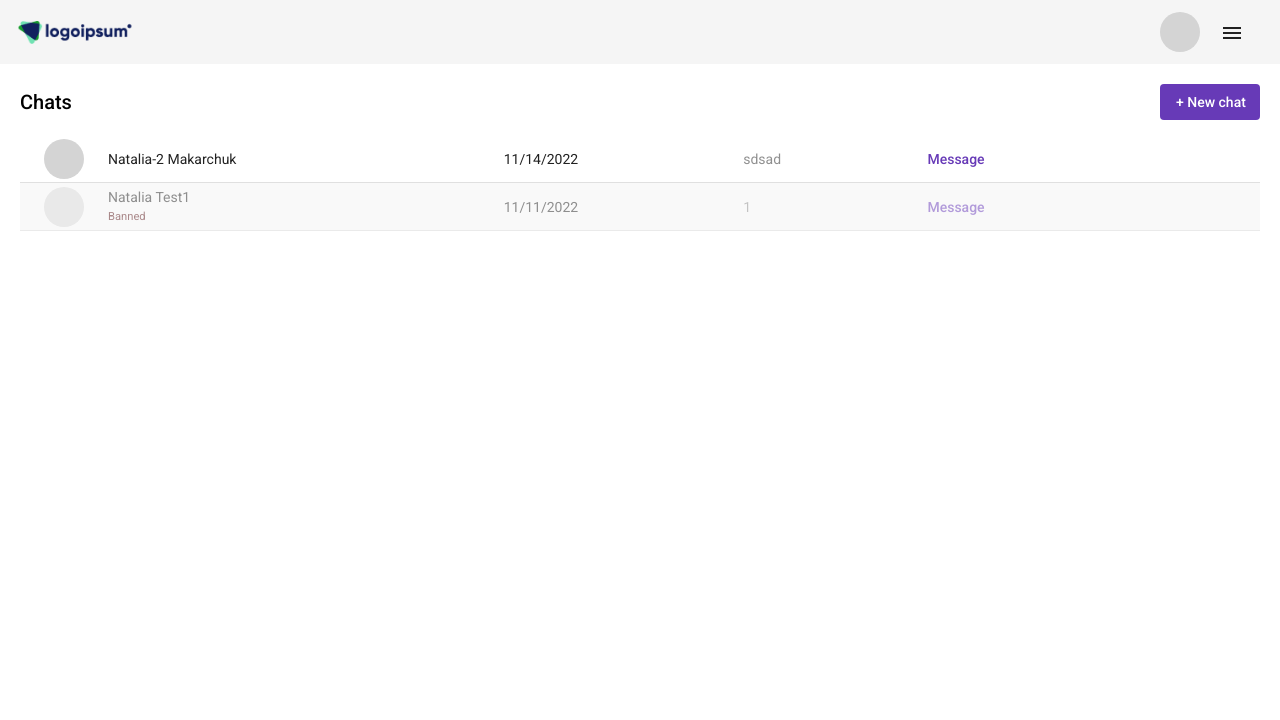
Test: Personal profile › Should show error after clear the fields
Click the button named "Menu" at point(1232, 32), box [1200,14,1264,50]
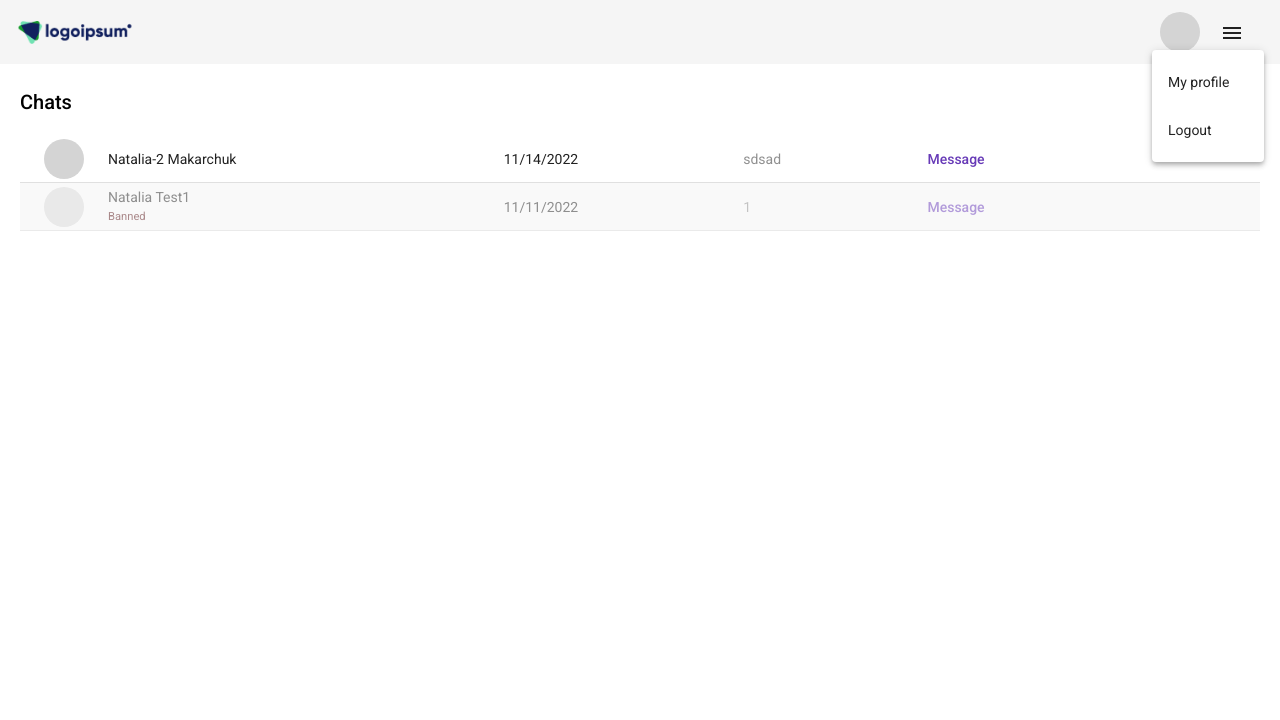
Click the menu item with aria-label "My profile" at point(1208, 82), box [1152,58,1264,106]
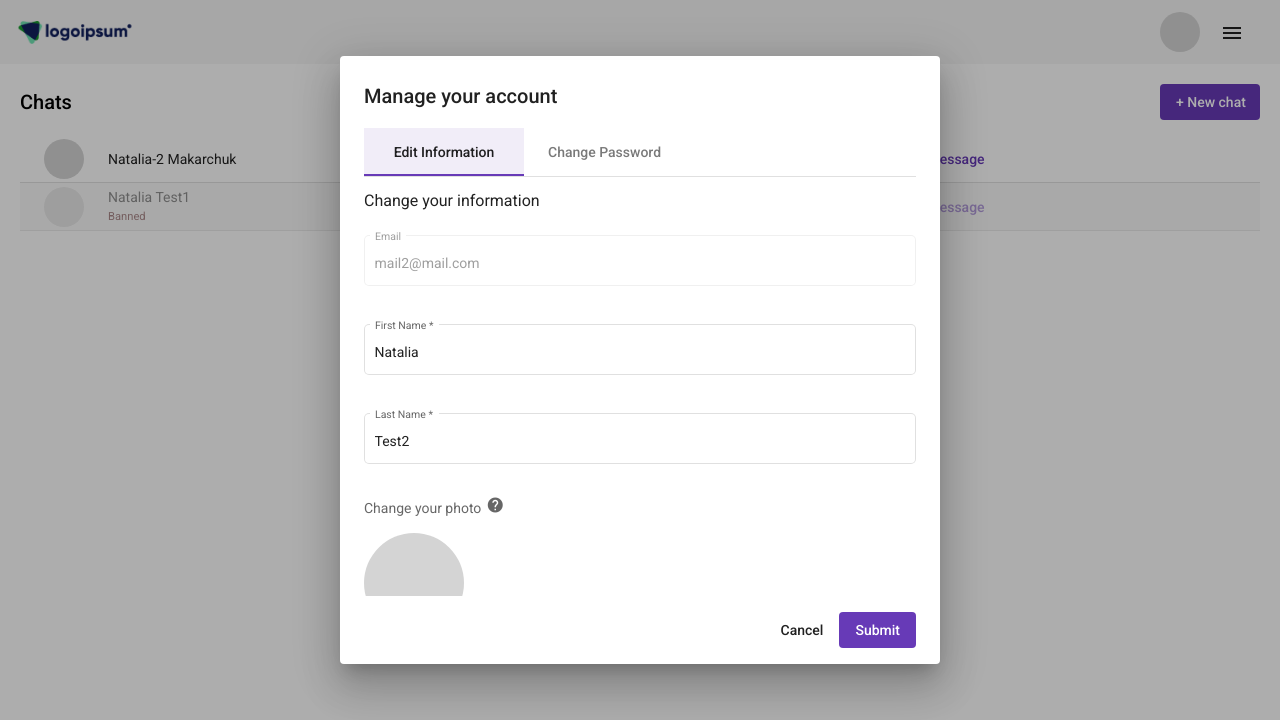
Clear the field named "firstName" at point(641, 353), box [375,345,906,361]
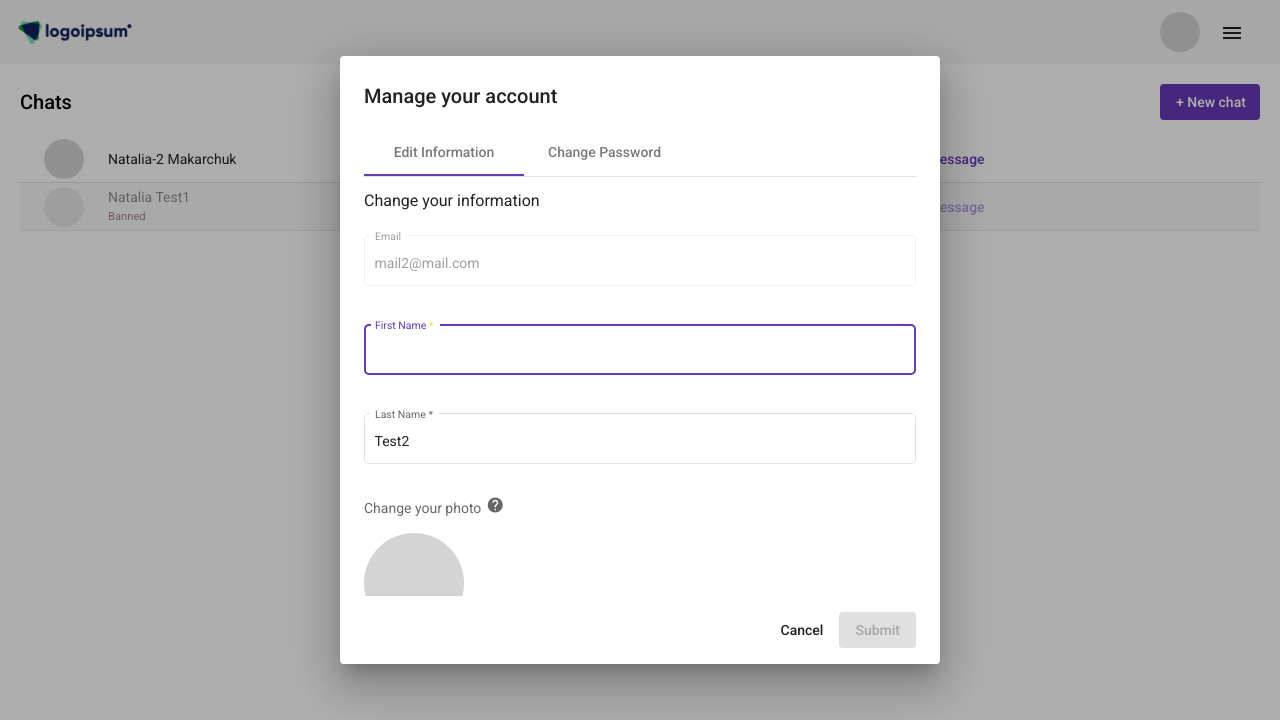
Clear the field named "lastName" at point(641, 442), box [375,434,906,450]
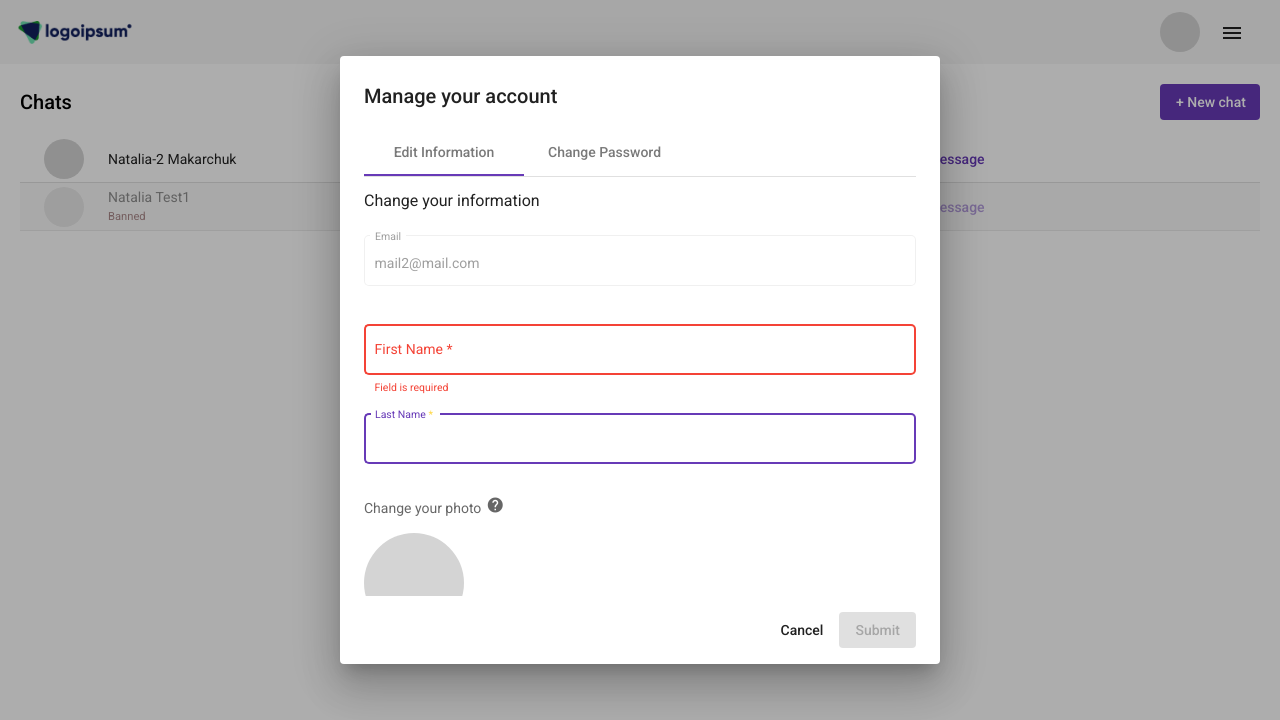
Result: the text "Field is required" is shown at [374,382,448,394]
